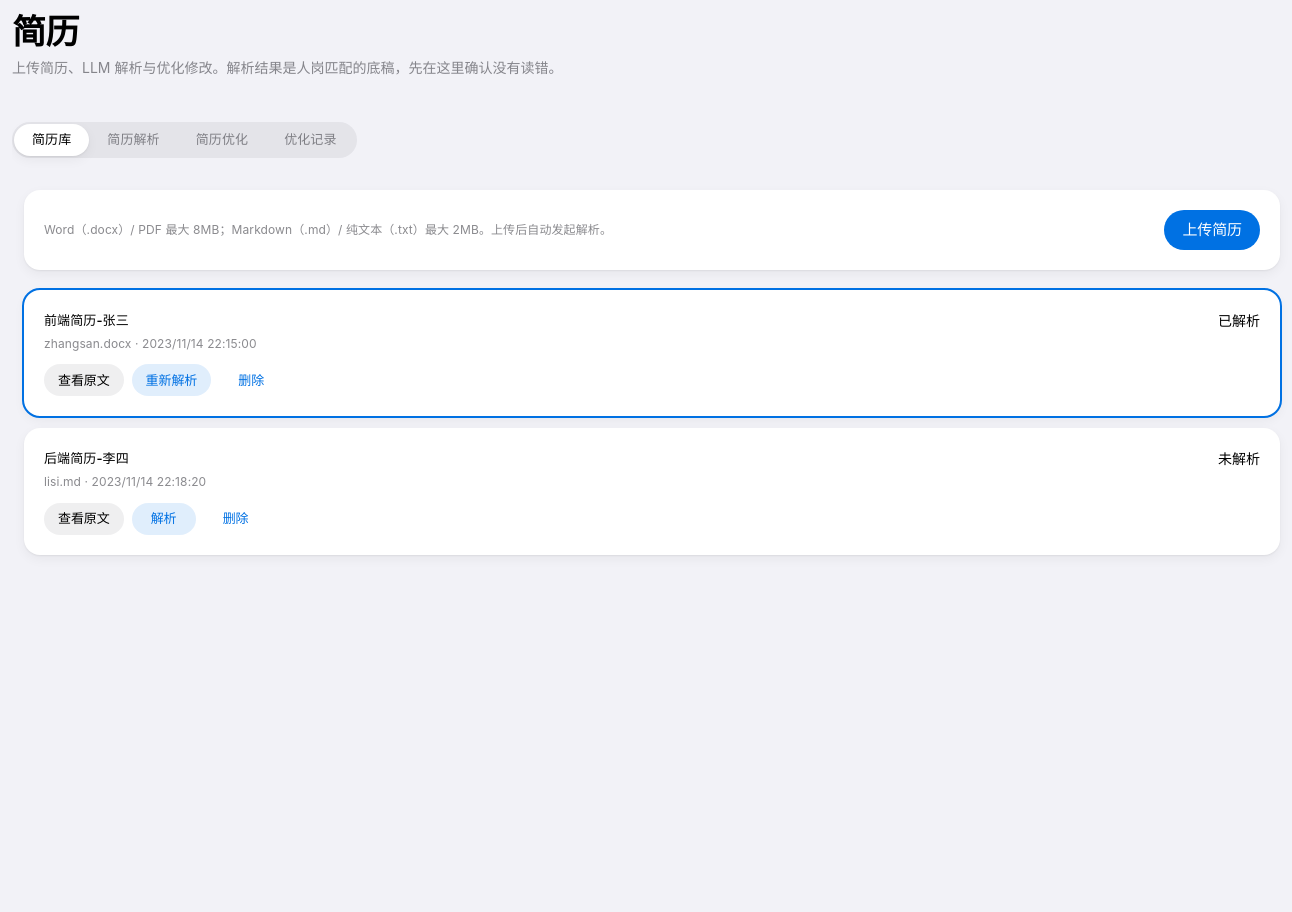
ResumesPage 简历优化 › 切到自由模式给章节勾选和预设提示词
Expected: the button with aria-label "查看原文「前端简历-张三」" is shown, [44, 364, 124, 396]
What coordinates should you click on to do the following:
click the radio button labelled "简历优化"
I would click on:
 (222, 140)
Its box is [178, 124, 266, 156].
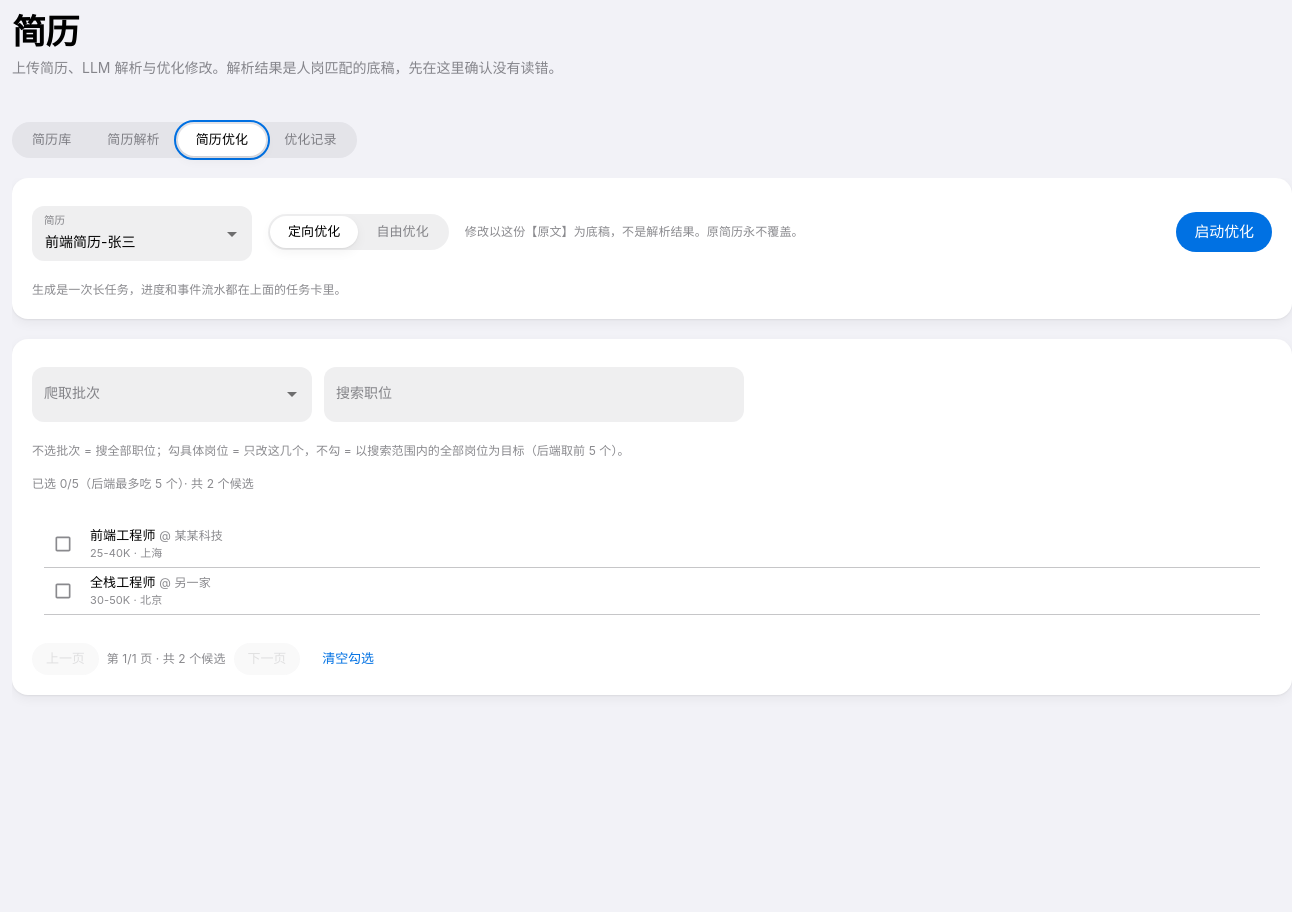
What coordinates should you click on to do the following:
click the radio button labelled "自由优化"
I would click on:
 (403, 232)
Its box is [358, 216, 447, 248].
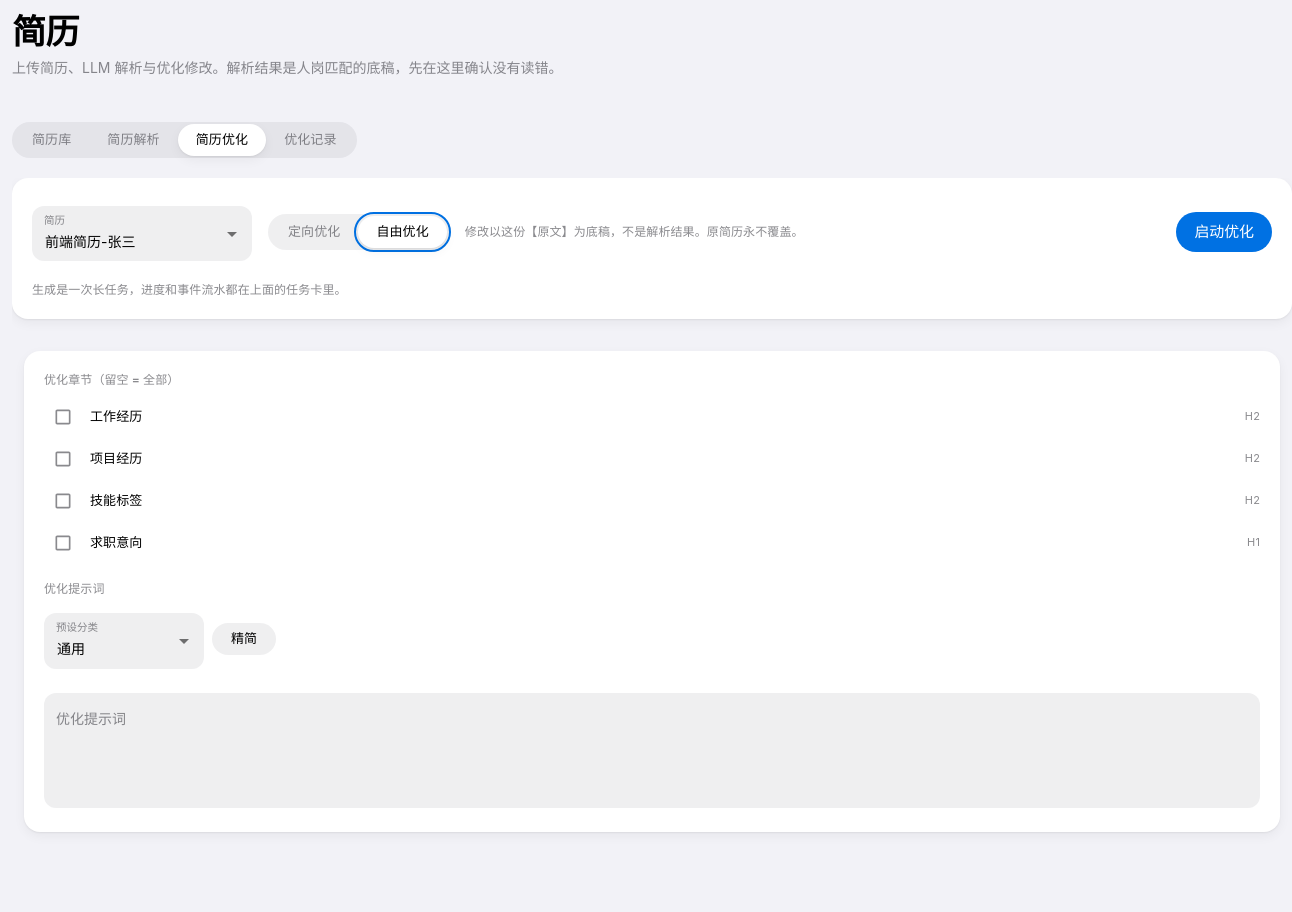
Now the checkbox labelled "工作经历 H2" is shown, box [53, 407, 1260, 427]
Now the checkbox labelled "项目经历 H2" is shown, box [53, 449, 1260, 469]
Now the checkbox labelled "技能标签 H2" is shown, box [53, 491, 1260, 511]
What coordinates should you click on to do the following:
click the button "精简"
I would click on:
 (244, 639)
Its box is [212, 623, 276, 655].
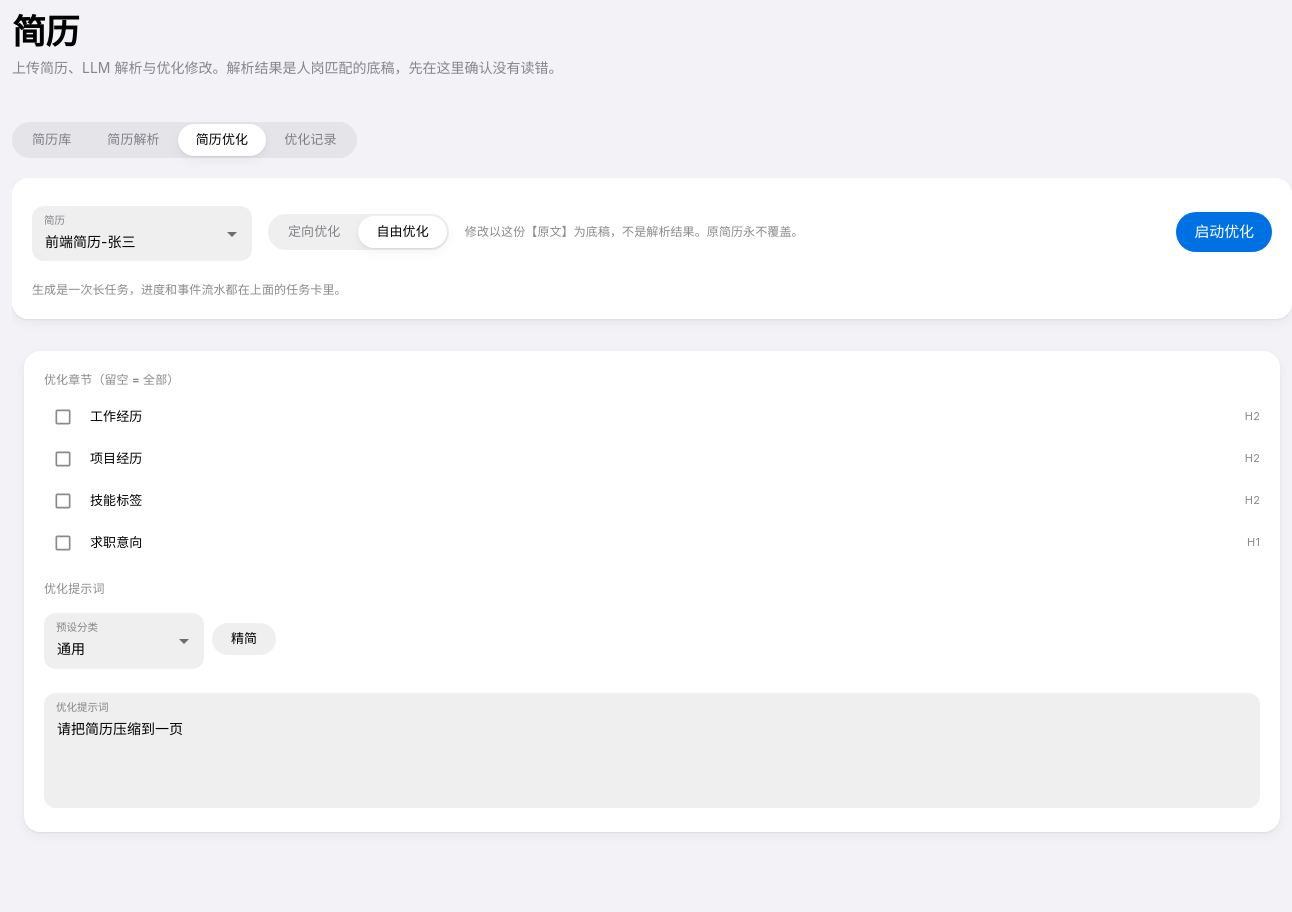
Now the text box labelled "优化提示词" holds "请把简历压缩到一页", box [57, 718, 1247, 798]
